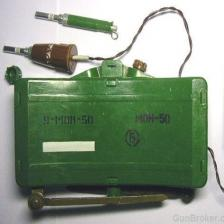MOH-50: (2, 39, 210, 213)
